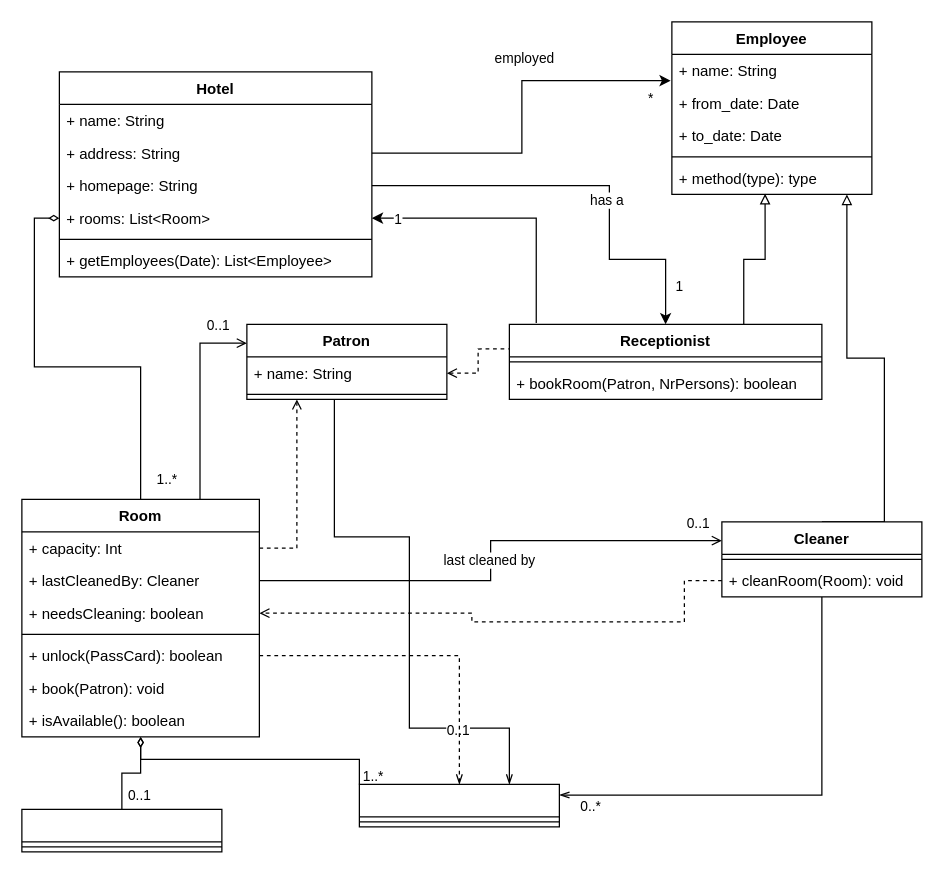
Image size: 944x874. Some labels were removed from this diagram. Each missing label, with the centre of its shape:
"Mini-bar" belongs at pixel 121 830.
"PassCard" belongs at pixel 458 805.
